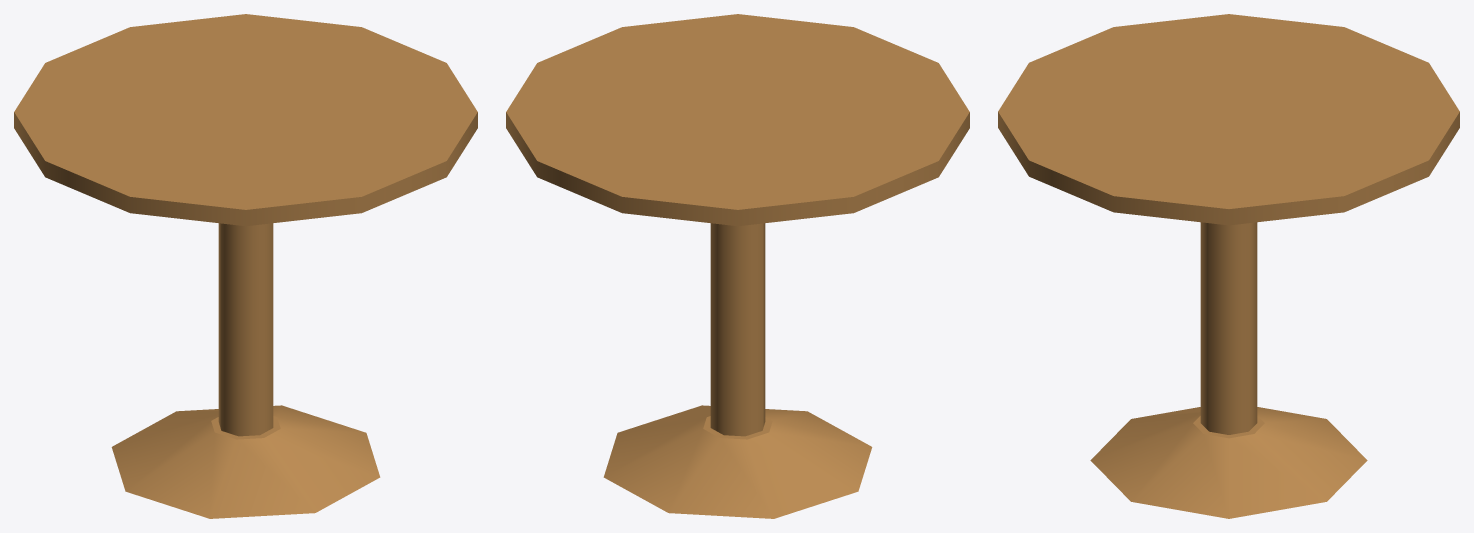
File: parametric-round_table-crew.glb
3 renders of one model, left to right at view 1: azimuth 30°, elevation 25°; view 2: azimuth 150°, elevation 25°; view 3: azimuth 270°, elevation 25°, orthographic.
Visible parts, largest first — view 1: parametric-round_table-crew; view 2: parametric-round_table-crew; view 3: parametric-round_table-crew.
Boxes of the visible parts, bbox=[...] form: parametric-round_table-crew: bbox=[14, 14, 477, 518]; parametric-round_table-crew: bbox=[506, 14, 969, 518]; parametric-round_table-crew: bbox=[998, 14, 1459, 518].
Bounding box in the file's own units: 0.9 × 0.75 × 0.9.
